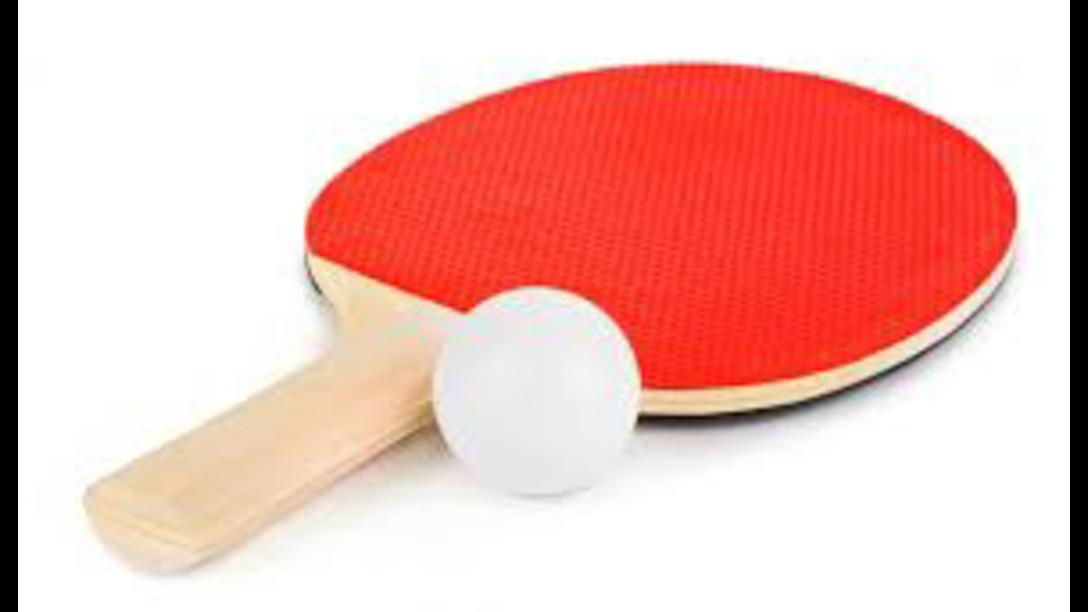Table-Tennis-Ball: (432, 285, 640, 495)
